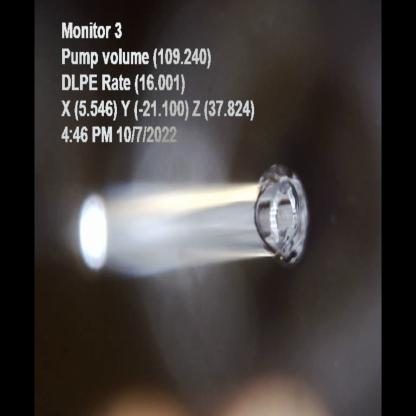Droplet: (254, 167, 312, 271)
